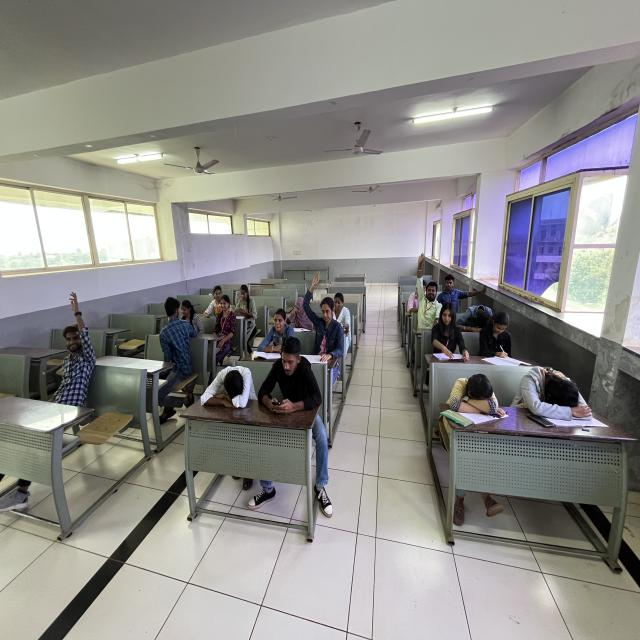Hand Rising: (298, 266, 348, 354), (405, 244, 443, 324)
Reading: (284, 291, 310, 326)
Sleeping: (509, 355, 614, 443), (434, 365, 508, 449), (200, 350, 257, 412), (457, 300, 495, 329)
Using Phone: (256, 330, 324, 417), (234, 284, 260, 324)
Writing: (475, 306, 541, 366)
